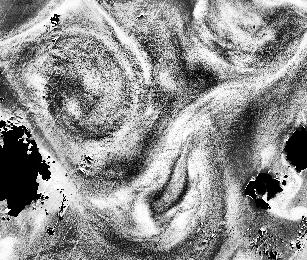AE: (22, 21, 154, 166)
